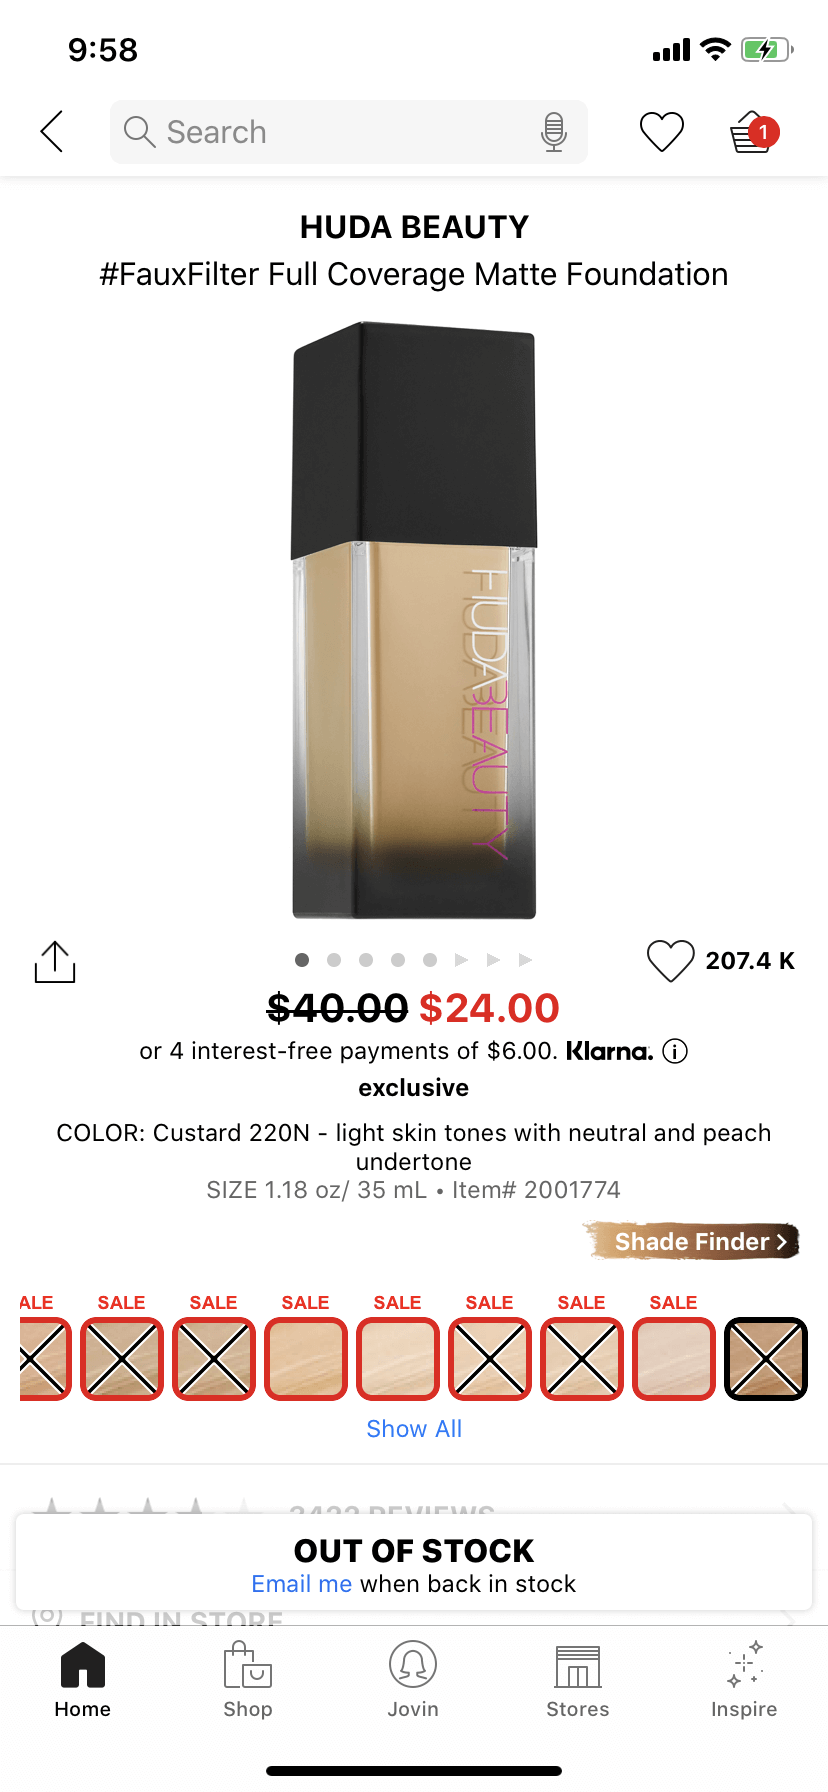Buttons: (629, 907, 807, 997), (13, 907, 97, 997), (612, 91, 699, 171), (720, 91, 797, 171), (18, 91, 87, 171), (653, 1023, 702, 1078)
FAB (Floating Action Button): (9, 1504, 823, 1622)
Page Controls: (261, 929, 555, 981)
